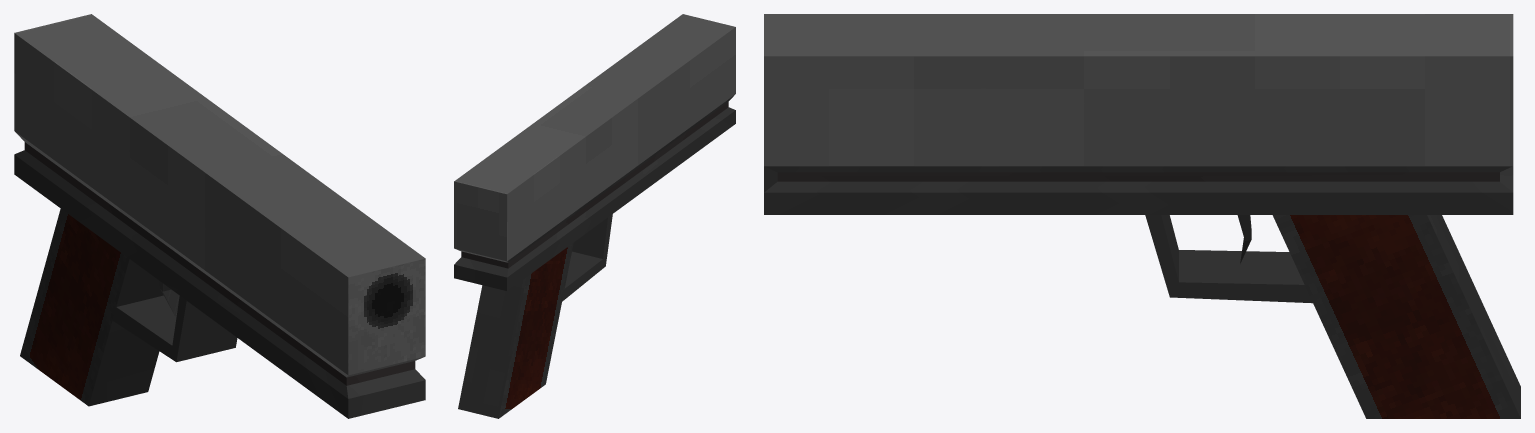
Rendered from pistol.glb.
3 views of the same model, side by side, from view 1: azimuth 30°, elevation 25°; view 2: azimuth 150°, elevation 25°; view 3: azimuth 270°, elevation 25° (orthographic). The views are drawn at different scales.
Parts seen in each view (by area): view 1: Cube.001; view 2: Cube.001; view 3: Cube.001.
Part boxes in pixels (left/top/right/bottom): Cube.001: left=14, top=14, right=425, bottom=418; Cube.001: left=454, top=14, right=735, bottom=418; Cube.001: left=764, top=14, right=1520, bottom=418.
Bounding box in the file's own units: 0.034 × 0.1375 × 0.2567.
Materials: 1 (1 with a texture image).
